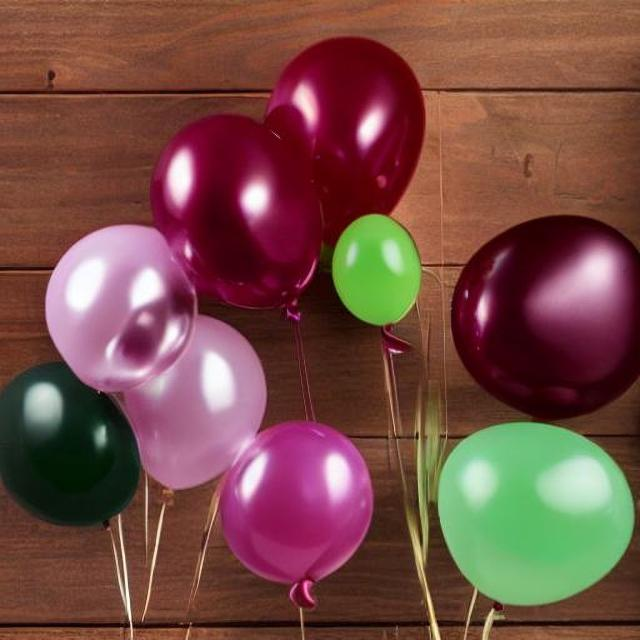balloon: (39, 35, 433, 549), (136, 28, 430, 380), (420, 379, 629, 610), (445, 210, 636, 420), (209, 414, 376, 605)
floating object: (409, 380, 457, 628)
